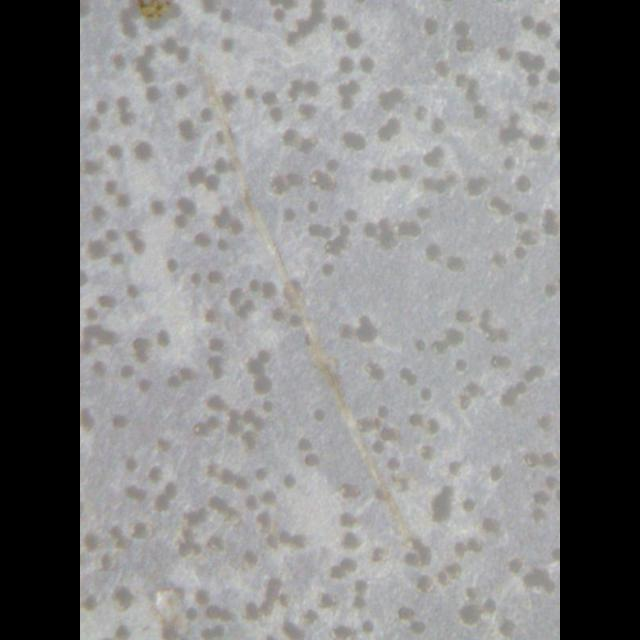Fibre: (184, 66, 453, 640)
